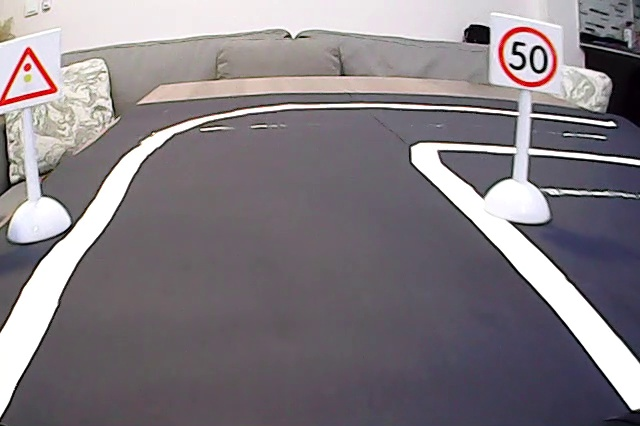red light: (1, 42, 60, 110)
speed limit 50: (496, 24, 558, 91)
